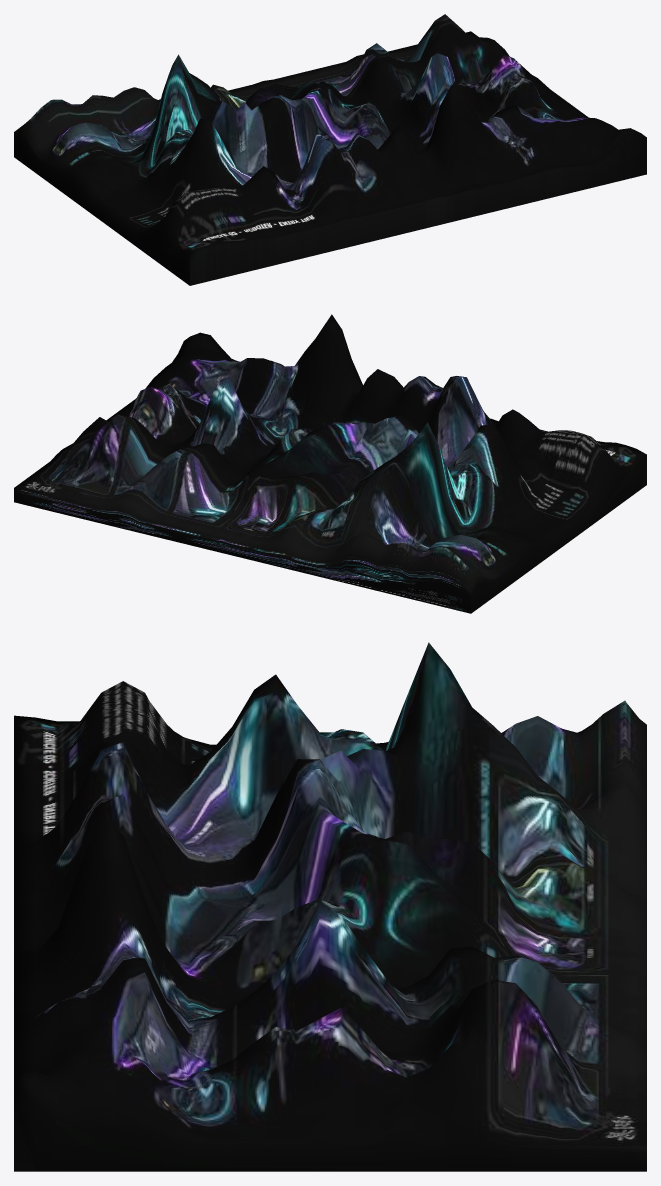
Rendered from VEHICLE_02_Scooter.glb.
3 views of the same model, one above another, from view 1: azimuth 30°, elevation 25°; view 2: azimuth 150°, elevation 25°; view 3: azimuth 270°, elevation 25° (orthographic). The views are drawn at different scales.
Parts seen in each view (by area): view 1: VEHICLE_02_Scooter; view 2: VEHICLE_02_Scooter; view 3: VEHICLE_02_Scooter.
Boxes of the visible parts, x1,y1,x2,y2 form: VEHICLE_02_Scooter: (14, 14, 646, 285); VEHICLE_02_Scooter: (14, 314, 646, 613); VEHICLE_02_Scooter: (14, 642, 646, 1171).
Size of the model in its own units: 2 by 0.51 by 1.33.
1 material, 1 textured.
